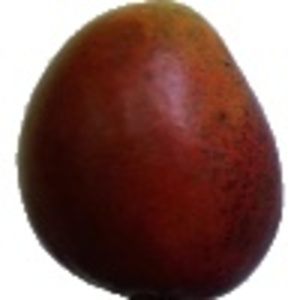manga: (16, 1, 285, 300)
